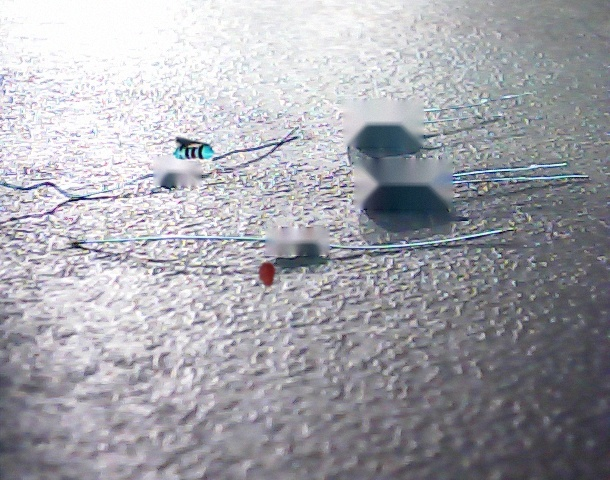capacitor: (258, 262, 276, 287)
resistor: (172, 137, 216, 166)
